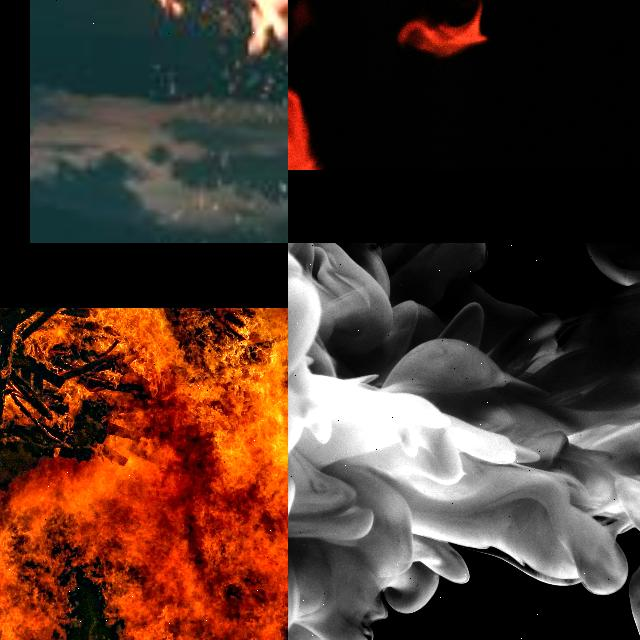fire: (0, 308, 288, 640)
smoke: (288, 243, 640, 640)
